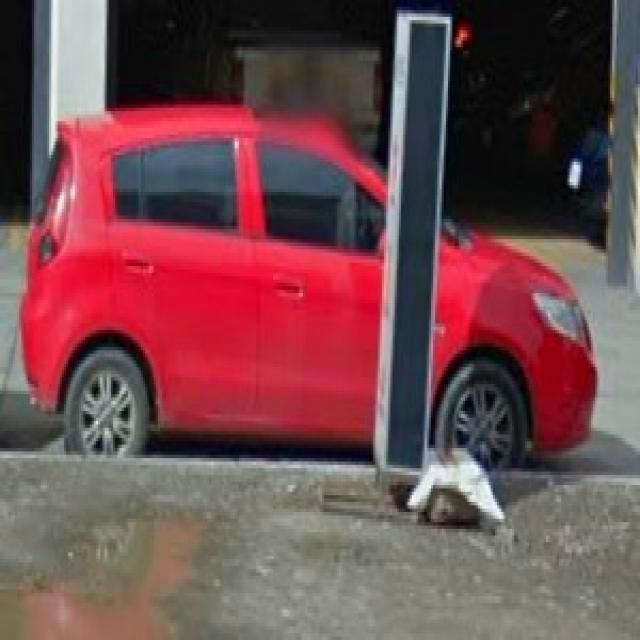Car: (22, 111, 598, 468)
